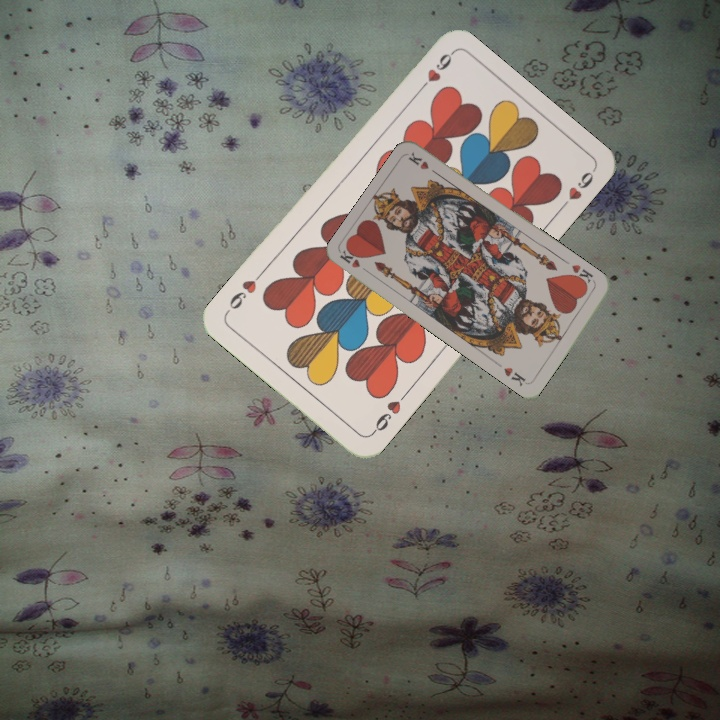H9: (412, 49, 456, 98), (367, 389, 410, 438)
HK: (336, 245, 374, 277), (566, 260, 598, 289)
